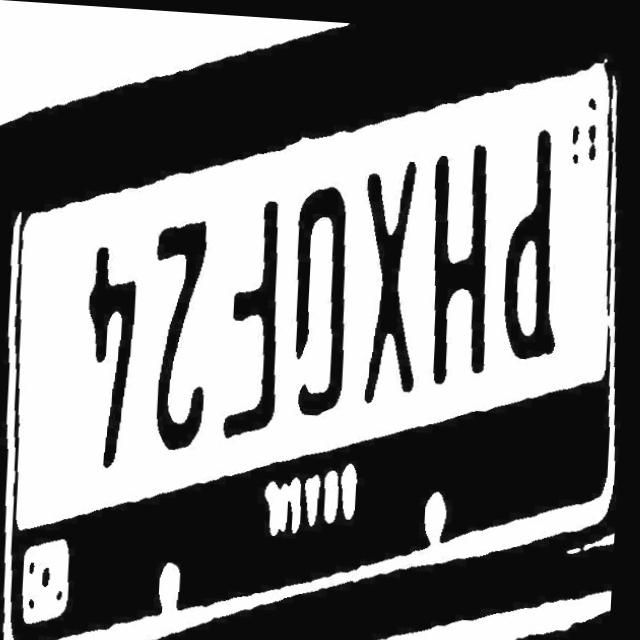0: (280, 174, 359, 419)
2: (140, 203, 224, 459)
4: (58, 238, 150, 471)
f: (223, 185, 295, 437)
h: (424, 132, 499, 386)
p: (500, 116, 575, 367)
x: (355, 149, 432, 407)
